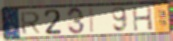2: (43, 8, 63, 36)
3: (66, 6, 86, 36)
9: (111, 7, 129, 33)
H: (131, 5, 154, 32)
I: (89, 7, 96, 34)
R: (19, 10, 42, 35)
